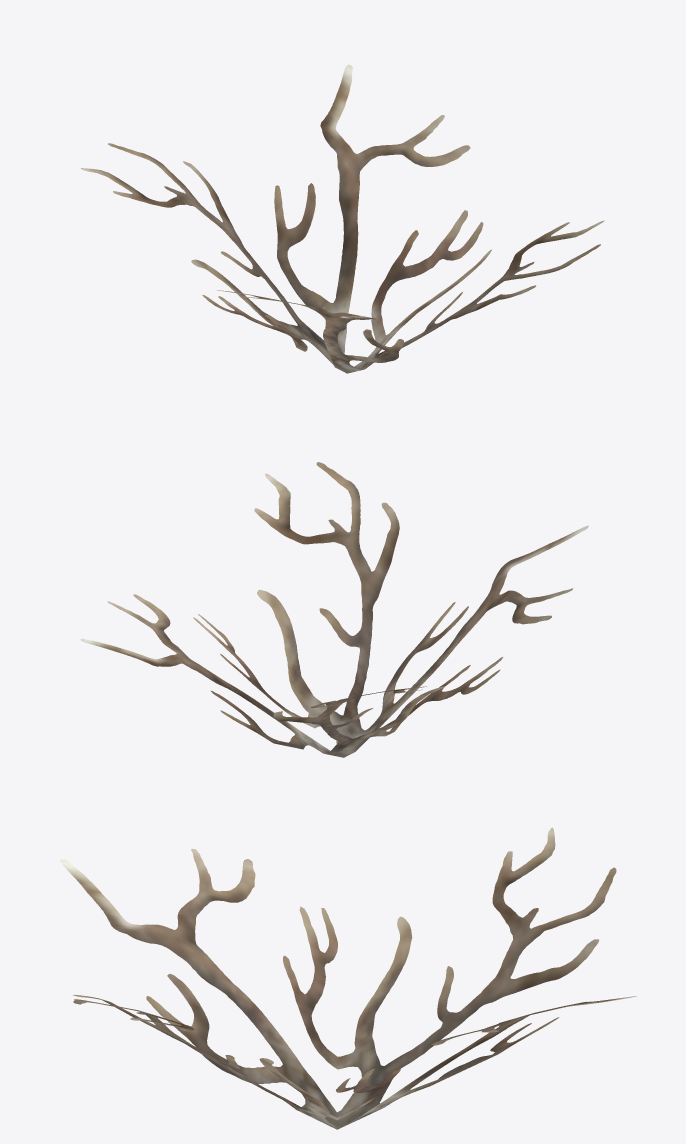
Rendered from SnowBranch_Alpha_01_001.FBX.
3 views of the same model, one above another, from view 1: azimuth 30°, elevation 25°; view 2: azimuth 150°, elevation 25°; view 3: azimuth 270°, elevation 25° (orthographic). The views are drawn at different scales.
Visible parts, largest first — view 1: SnowBranch_Alpha_01_001; view 2: SnowBranch_Alpha_01_001; view 3: SnowBranch_Alpha_01_001.
Boxes of the visible parts, bbox=[...] form: SnowBranch_Alpha_01_001: bbox=[81, 64, 604, 373]; SnowBranch_Alpha_01_001: bbox=[80, 462, 588, 757]; SnowBranch_Alpha_01_001: bbox=[60, 827, 636, 1129].
Size of the model in its own units: 2.7 by 1.44 by 3.6.
